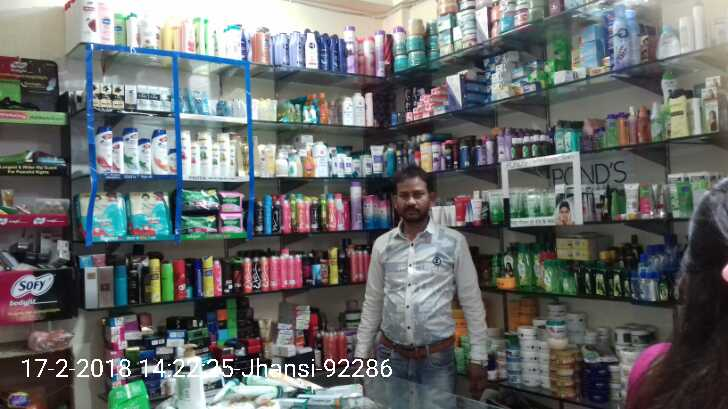ambipureVesus: (613, 4, 628, 67), (630, 11, 640, 65)
venus: (187, 84, 209, 113), (217, 99, 235, 116)
